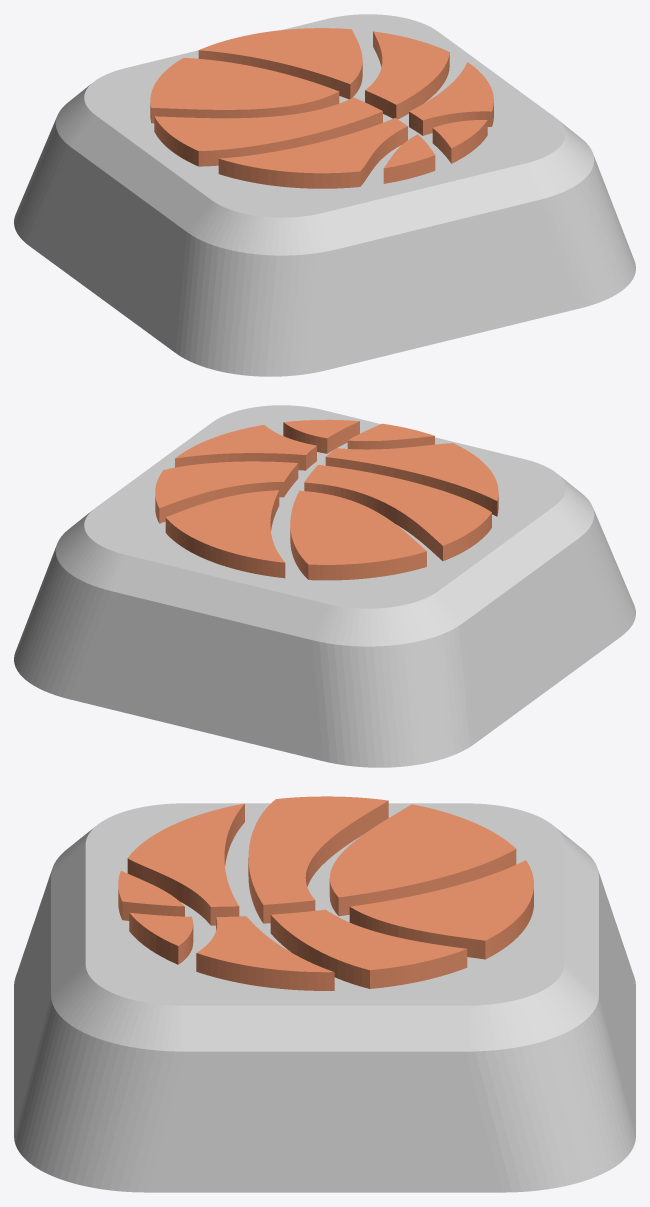
The model's file is cap-basketball.glb.
3 renders of one model, top to bottom at view 1: azimuth 30°, elevation 25°; view 2: azimuth 150°, elevation 25°; view 3: azimuth 270°, elevation 25°, orthographic. The views are drawn at different scales.
Visible parts, largest first — view 1: cap_1, glyph_0; view 2: cap_1, glyph_0; view 3: cap_1, glyph_0.
Part boxes in pixels (box(x1,y1,x2,y2)): cap_1: box(14, 14, 635, 376); glyph_0: box(150, 28, 493, 188); cap_1: box(14, 405, 635, 767); glyph_0: box(155, 419, 498, 580); cap_1: box(14, 803, 635, 1192); glyph_0: box(118, 796, 533, 990).
Size of the model in its own units: 18 by 5.6 by 18.
